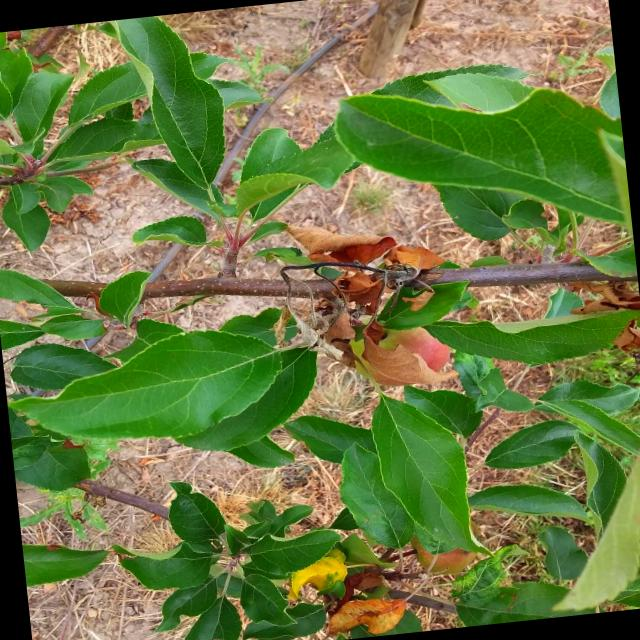-FireBlight-: (286, 212, 444, 396), (559, 264, 640, 360), (321, 568, 408, 629)
